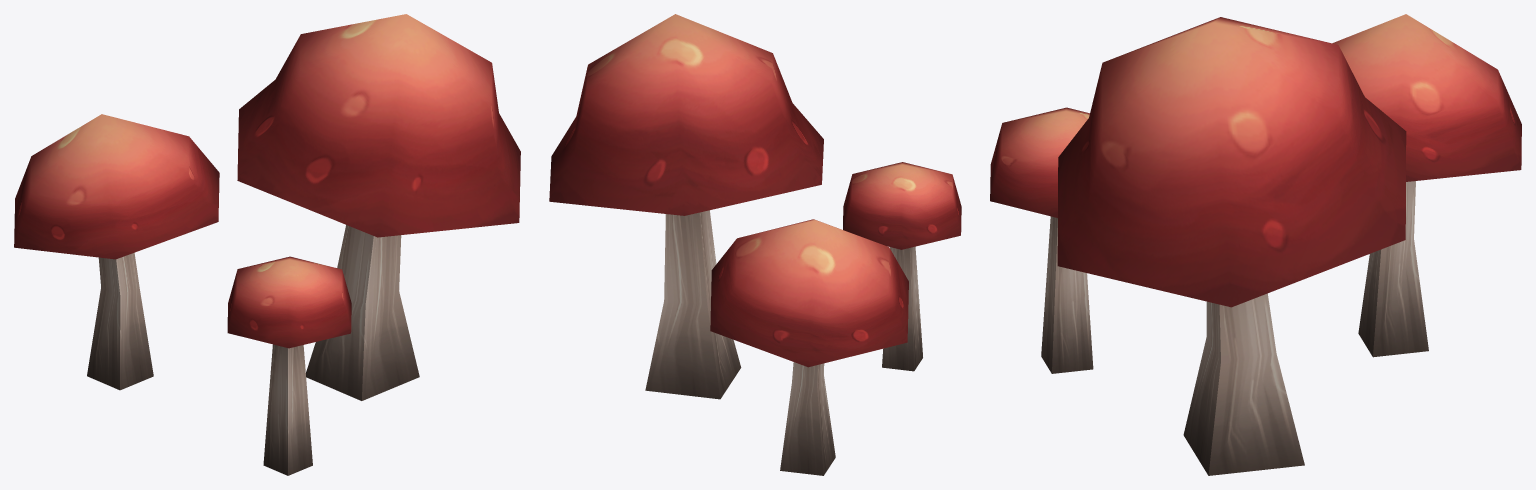
The model's file is mushroom_02.fbx.
The picture shows the model from 3 angles, left to right: view 1: azimuth 30°, elevation 25°; view 2: azimuth 150°, elevation 25°; view 3: azimuth 270°, elevation 25°; orthographic projection. The views are drawn at different scales.
Parts seen in each view (by area): view 1: mushroom_set; view 2: mushroom_set; view 3: mushroom_set.
Boxes of the visible parts, x1=… form: mushroom_set: x1=14, y1=14, x2=520, y2=475; mushroom_set: x1=549, y1=14, x2=961, y2=475; mushroom_set: x1=990, y1=14, x2=1521, y2=475.
Bounding box in the file's own units: 2.19 × 1.74 × 1.88.
